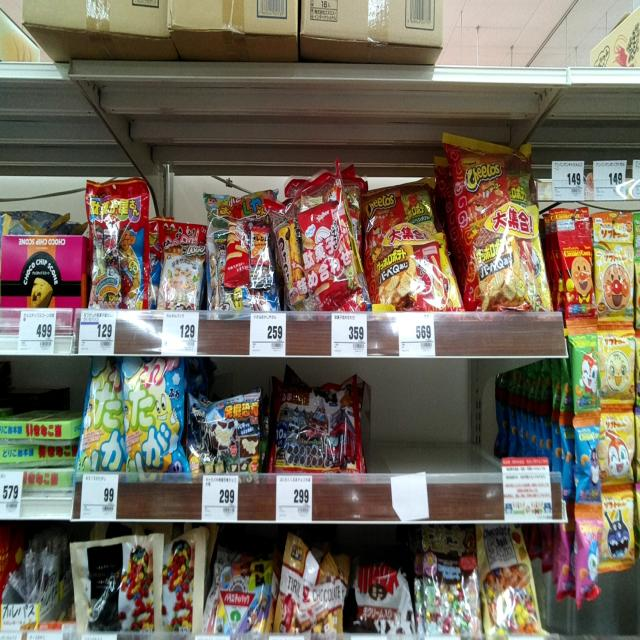objects: (397, 311, 436, 360), (203, 474, 239, 522), (276, 474, 312, 522), (81, 474, 118, 520), (332, 311, 368, 356), (20, 310, 56, 354), (161, 314, 198, 356), (79, 311, 115, 353), (250, 313, 286, 354), (0, 466, 23, 524)
